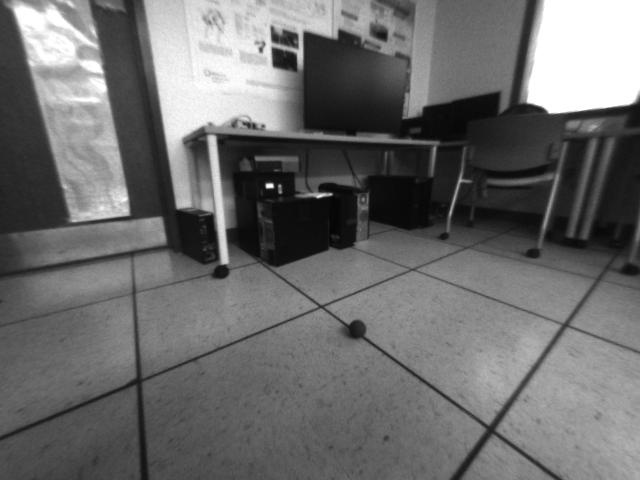dogtoy: (339, 309, 375, 342)
